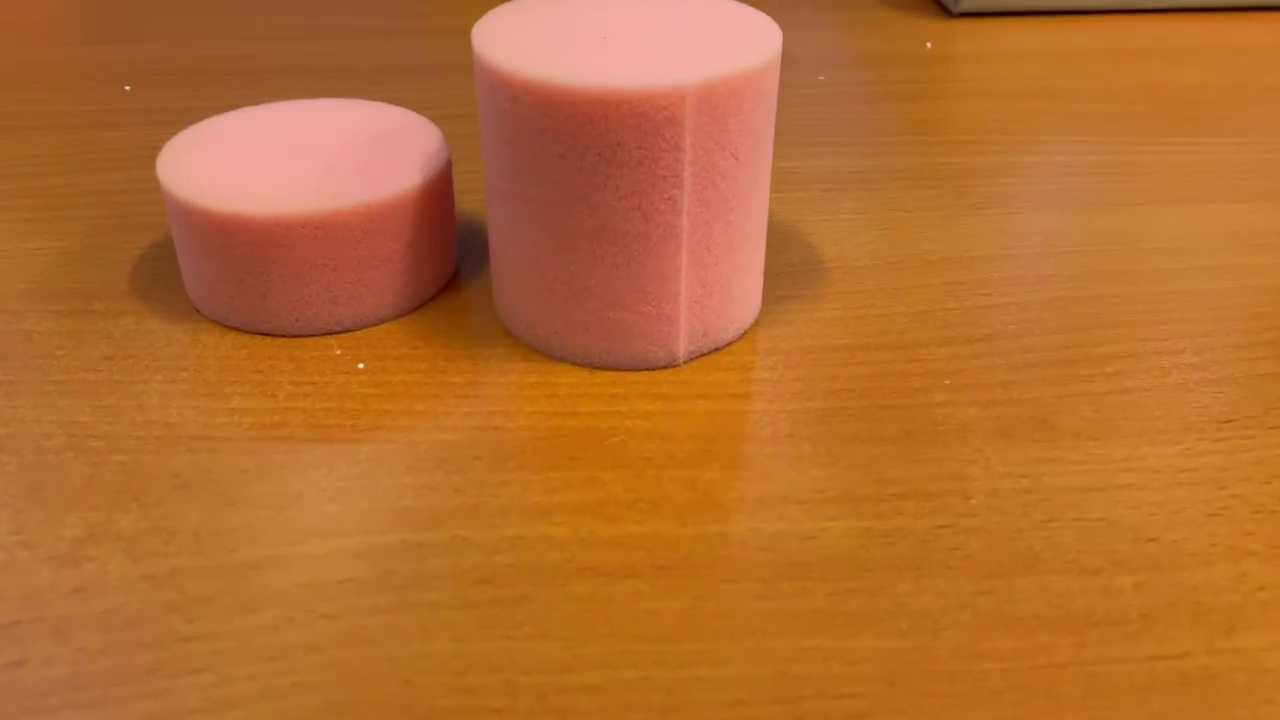Clyinder_short: (148, 91, 473, 341)
Cylinder: (462, 1, 791, 377)
